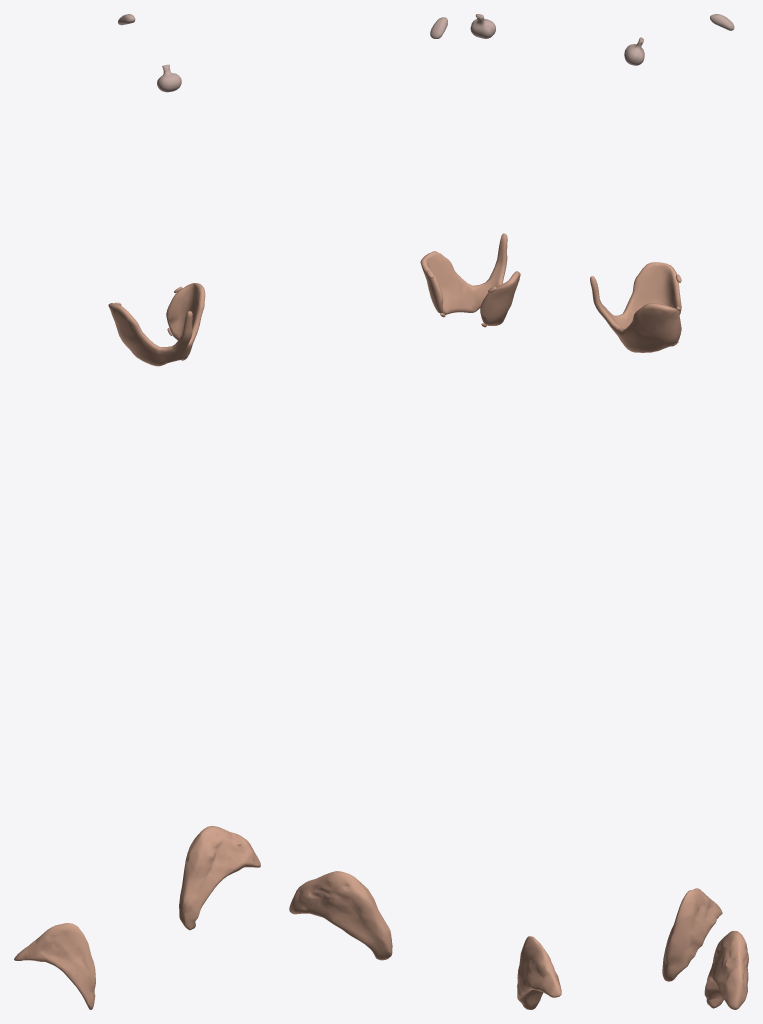
Rendered from adult_male.endocrine.LOD0.glb.
3 views of the same model, side by side, from view 1: azimuth 30°, elevation 25°; view 2: azimuth 150°, elevation 25°; view 3: azimuth 270°, elevation 25° (orthographic). The views are drawn at different scales.
Visible parts, largest first — view 1: ADULT.MALE.ENDOCRINE.SUPRARENAL_GLAND.L, ADULT.MALE.ENDOCRINE.THYROID_GLAND, ADULT.MALE.ENDOCRINE.SUPRARENAL_GLAND.R; view 2: ADULT.MALE.ENDOCRINE.SUPRARENAL_GLAND.L, ADULT.MALE.ENDOCRINE.THYROID_GLAND, ADULT.MALE.ENDOCRINE.SUPRARENAL_GLAND.R; view 3: ADULT.MALE.ENDOCRINE.THYROID_GLAND, ADULT.MALE.ENDOCRINE.SUPRARENAL_GLAND.R, ADULT.MALE.ENDOCRINE.SUPRARENAL_GLAND.L.
Boxes of the visible parts, x1,y1,x2,y2 form: ADULT.MALE.ENDOCRINE.SUPRARENAL_GLAND.L: (179,826,260,930); ADULT.MALE.ENDOCRINE.THYROID_GLAND: (108,283,205,366); ADULT.MALE.ENDOCRINE.SUPRARENAL_GLAND.R: (14,923,95,1009); ADULT.MALE.ENDOCRINE.SUPRARENAL_GLAND.L: (289,871,392,960); ADULT.MALE.ENDOCRINE.THYROID_GLAND: (420,233,520,325); ADULT.MALE.ENDOCRINE.SUPRARENAL_GLAND.R: (517,936,561,1009); ADULT.MALE.ENDOCRINE.THYROID_GLAND: (590,262,681,352); ADULT.MALE.ENDOCRINE.SUPRARENAL_GLAND.R: (662,888,722,981); ADULT.MALE.ENDOCRINE.SUPRARENAL_GLAND.L: (704,931,748,1009).
Size of the model in its own units: 0.138 by 0.4994 by 0.072.
